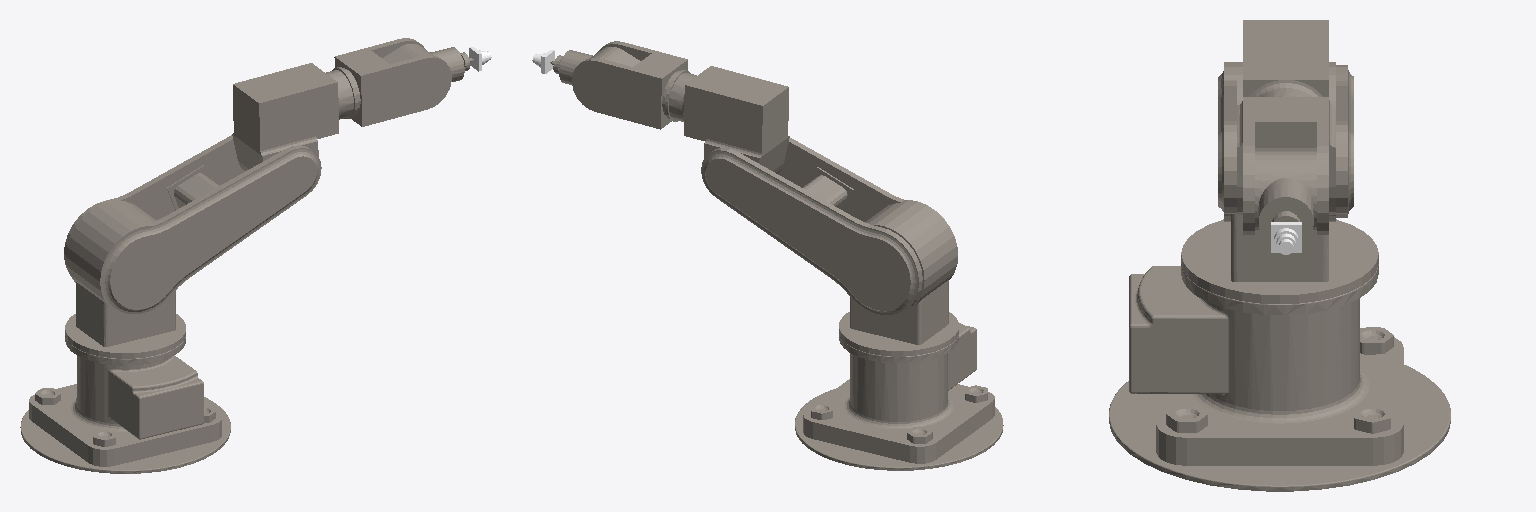
robot.urdf — Assem3:
<?xml version="1.0" encoding="utf-8"?>
<!-- This URDF was automatically created by SolidWorks to URDF Exporter! Originally created by [author] ([email redacted]) 
     Commit Version: 1.6.0-4-g7f85cfe  Build Version: 1.6.7995.38578
     For more information, please see http://wiki.ros.org/sw_urdf_exporter -->
<robot
  name="Assem3">
  <link
    name="base_link">
    <inertial>
      <origin
        xyz="-0.0068304 -0.063554 0.046292"
        rpy="0 0 0" />
      <mass
        value="20.049" />
      <inertia
        ixx="0.42457"
        ixy="5.8481E-08"
        ixz="-2.2569E-08"
        iyy="0.49879"
        iyz="-0.040982"
        izz="0.34017" />
    </inertial>
    <visual>
      <origin
        xyz="0 0 0"
        rpy="0 0 0" />
      <geometry>
        <mesh
          filename="package://Assem3/meshes/base_link.STL" />
      </geometry>
      <material
        name="">
        <color
          rgba="0.64706 0.61961 0.58824 1" />
      </material>
    </visual>
    <collision>
      <origin
        xyz="0 0 0"
        rpy="0 0 0" />
      <geometry>
        <mesh
          filename="package://Assem3/meshes/base_link.STL" />
      </geometry>
    </collision>
  </link>
  <link
    name="Empty_Link1">
    <inertial>
      <origin
        xyz="-0.0068304 0.21631 0.014994"
        rpy="0 0 0" />
      <mass
        value="14.515" />
      <inertia
        ixx="0.28139"
        ixy="-1.2685E-09"
        ixz="-2.6436E-08"
        iyy="0.10949"
        iyz="-2.5985E-17"
        izz="0.30806" />
    </inertial>
    <visual>
      <origin
        xyz="0 0 0"
        rpy="0 0 0" />
      <geometry>
        <mesh
          filename="package://Assem3/meshes/Empty_Link1.STL" />
      </geometry>
      <material
        name="">
        <color
          rgba="0.64706 0.61961 0.58824 1" />
      </material>
    </visual>
    <collision>
      <origin
        xyz="0 0 0"
        rpy="0 0 0" />
      <geometry>
        <mesh
          filename="package://Assem3/meshes/Empty_Link1.STL" />
      </geometry>
    </collision>
  </link>
  <joint
    name="joint_1"
    type="revolute">
    <origin
      xyz="0 0 0"
      rpy="1.5708 0 0" />
    <parent
      link="base_link" />
    <child
      link="Empty_Link1" />
    <axis
      xyz="0 1 0" />
    <limit
      lower="-1.4"
      upper="1.4"
      effort="0"
      velocity="1.745" />
  </joint>
  <link
    name="Empty_Link2">
    <inertial>
      <origin
        xyz="-1.7681E-08 0.19148 0.0049935"
        rpy="0 0 0" />
      <mass
        value="12.735" />
      <inertia
        ixx="0.5684"
        ixy="1.4814E-08"
        ixz="2.382E-08"
        iyy="0.10165"
        iyz="5.9912E-08"
        izz="0.519" />
    </inertial>
    <visual>
      <origin
        xyz="0 0 0"
        rpy="0 0 0" />
      <geometry>
        <mesh
          filename="package://Assem3/meshes/Empty_Link2.STL" />
      </geometry>
      <material
        name="">
        <color
          rgba="0.64706 0.61961 0.58824 1" />
      </material>
    </visual>
    <collision>
      <origin
        xyz="0 0 0"
        rpy="0 0 0" />
      <geometry>
        <mesh
          filename="package://Assem3/meshes/Empty_Link2.STL" />
      </geometry>
    </collision>
  </link>
  <joint
    name="joint_2"
    type="revolute">
    <origin
      xyz="-0.0068304 0.33924 0"
      rpy="0 0 -1.2179" />
    <parent
      link="Empty_Link1" />
    <child
      link="Empty_Link2" />
    <axis
      xyz="0 0 1" />
    <limit
      lower="-1"
      upper="1.9"
      effort="0"
      velocity="1.745" />
  </joint>
  <link
    name="Empty_Link3">
    <inertial>
      <origin
        xyz="0.13287 0.12036 0.0049935"
        rpy="0 0 0" />
      <mass
        value="11.911" />
      <inertia
        ixx="0.074459"
        ixy="-0.038544"
        ixz="-2.2693E-10"
        iyy="0.32506"
        iyz="-7.5182E-10"
        izz="0.35697" />
    </inertial>
    <visual>
      <origin
        xyz="0 0 0"
        rpy="0 0 0" />
      <geometry>
        <mesh
          filename="package://Assem3/meshes/Empty_Link3.STL" />
      </geometry>
      <material
        name="">
        <color
          rgba="0.64706 0.61961 0.58824 1" />
      </material>
    </visual>
    <collision>
      <origin
        xyz="0 0 0"
        rpy="0 0 0" />
      <geometry>
        <mesh
          filename="package://Assem3/meshes/Empty_Link3.STL" />
      </geometry>
    </collision>
  </link>
  <joint
    name="joint_3"
    type="revolute">
    <origin
      xyz="0 0.5 0"
      rpy="0 0 1.243" />
    <parent
      link="Empty_Link2" />
    <child
      link="Empty_Link3" />
    <axis
      xyz="0 0 1" />
    <limit
      lower="-1"
      upper="1.484"
      effort="0"
      velocity="1.745" />
  </joint>
  <link
    name="End_effector">
    <inertial>
      <origin
        xyz="0.023348 3.2877E-08 0.0049935"
        rpy="0 0 0" />
      <mass
        value="1.172" />
      <inertia
        ixx="0.002137"
        ixy="-3.9277E-10"
        ixz="-5.2391E-10"
        iyy="0.0061265"
        iyz="-1.6765E-09"
        izz="0.0066365" />
    </inertial>
    <visual>
      <origin
        xyz="0 0 0"
        rpy="0 0 0" />
      <geometry>
        <mesh
          filename="package://Assem3/meshes/End_effector.STL" />
      </geometry>
      <material
        name="">
        <color
          rgba="0.64706 0.61961 0.58824 1" />
      </material>
    </visual>
    <collision>
      <origin
        xyz="0 0 0"
        rpy="0 0 0" />
      <geometry>
        <mesh
          filename="package://Assem3/meshes/End_effector.STL" />
      </geometry>
    </collision>
  </link>
  <joint
    name="joint_4"
    type="revolute">
    <origin
      xyz="0.4257 0.14425 0"
      rpy="0 0 -0.025146" />
    <parent
      link="Empty_Link3" />
    <child
      link="End_effector" />
    <axis
      xyz="0 0 1" />
    <limit
      lower="-1.58"
      upper="1.58"
      effort="0"
      velocity="1.745" />
  </joint>
  <link
    name="Camera">
    <inertial>
      <origin
        xyz="-0.025 0 0.016025"
        rpy="0 0 0" />
      <mass
        value="0.060066" />
      <inertia
        ixx="1.768E-05"
        ixy="1.3905E-21"
        ixz="-1.6302E-20"
        iyy="1.768E-05"
        iyz="-3.493E-22"
        izz="1.716E-05" />
    </inertial>
    <visual>
      <origin
        xyz="0 0 0"
        rpy="0 0 0" />
      <geometry>
        <mesh
          filename="package://Assem3/meshes/Camera.STL" />
      </geometry>
      <material
        name="">
        <color
          rgba="1 1 1 1" />
      </material>
    </visual>
    <collision>
      <origin
        xyz="0 0 0"
        rpy="0 0 0" />
      <geometry>
        <mesh
          filename="package://Assem3/meshes/Camera.STL" />
      </geometry>
    </collision>
  </link>
  <joint
    name="joint_5"
    type="fixed">
    <origin
      xyz="0.1735 0 -0.020006"
      rpy="0 1.5708 0" />
    <parent
      link="End_effector" />
    <child
      link="Camera" />
    <axis
      xyz="0 0 0" />
    <limit
      lower="0"
      upper="0"
      effort="0"
      velocity="0" />
  </joint>
</robot>

--- What the picture shows (computed from the rendered views, not written in the file) ---
The picture shows the robot from 3 angles, left to right: view 1: azimuth 30°, elevation 25°; view 2: azimuth 150°, elevation 25°; view 3: azimuth 270°, elevation 25°; orthographic projection.
Model Assem3 with 6 links and 5 joints (4 revolute, 1 fixed), rooted at base_link, posed every joint at zero.
Visible links, largest first — view 1: Empty_Link2, base_link, Empty_Link3, Empty_Link1, End_effector; view 2: base_link, Empty_Link2, Empty_Link3, Empty_Link1, End_effector; view 3: base_link, Empty_Link3, Empty_Link1, Empty_Link2, End_effector, Camera.
Boxes of the visible links, left/top/right/bottom form: Empty_Link2: left=64, top=135, right=321, bottom=314; base_link: left=20, top=336, right=230, bottom=473; Empty_Link3: left=232, top=38, right=451, bottom=171; Empty_Link1: left=65, top=201, right=185, bottom=358; End_effector: left=382, top=44, right=473, bottom=81; base_link: left=795, top=323, right=1003, bottom=470; Empty_Link2: left=701, top=138, right=922, bottom=315; Empty_Link3: left=572, top=41, right=789, bottom=173; Empty_Link1: left=839, top=200, right=958, bottom=356; End_effector: left=550, top=47, right=640, bottom=84; base_link: left=1109, top=264, right=1450, bottom=491; Empty_Link3: left=1237, top=20, right=1335, bottom=234; Empty_Link1: left=1181, top=62, right=1378, bottom=303; Empty_Link2: left=1218, top=65, right=1353, bottom=217; End_effector: left=1255, top=148, right=1316, bottom=242; Camera: left=1271, top=222, right=1301, bottom=254.
Bounding box of the posed robot: 1.39 × 0.555 × 0.8985 m (x, y, z).
6 mesh visuals loaded from 6 distinct referenced files (6 binary STL).